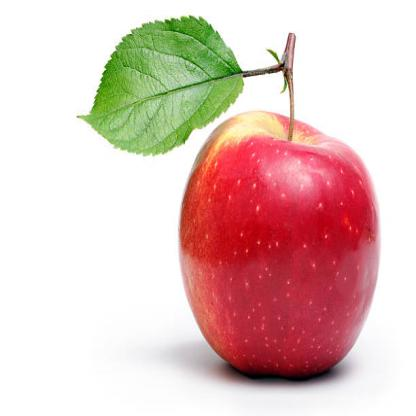apple leaf: (73, 7, 254, 166)
